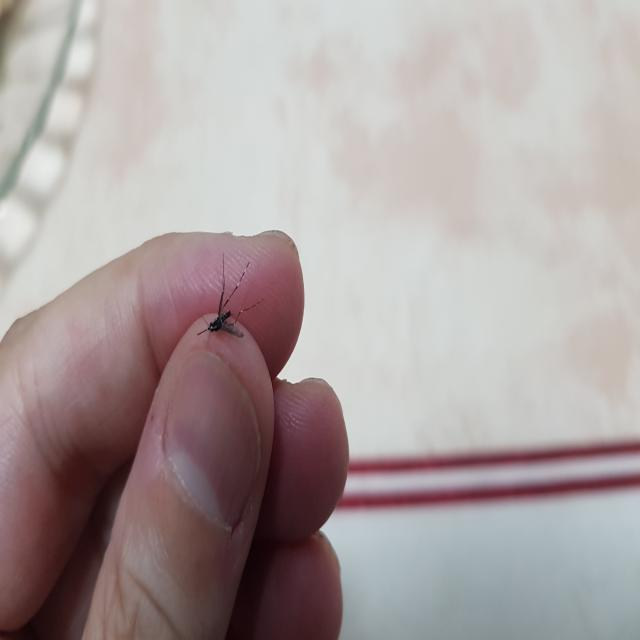albopictus: (194, 245, 262, 357)
